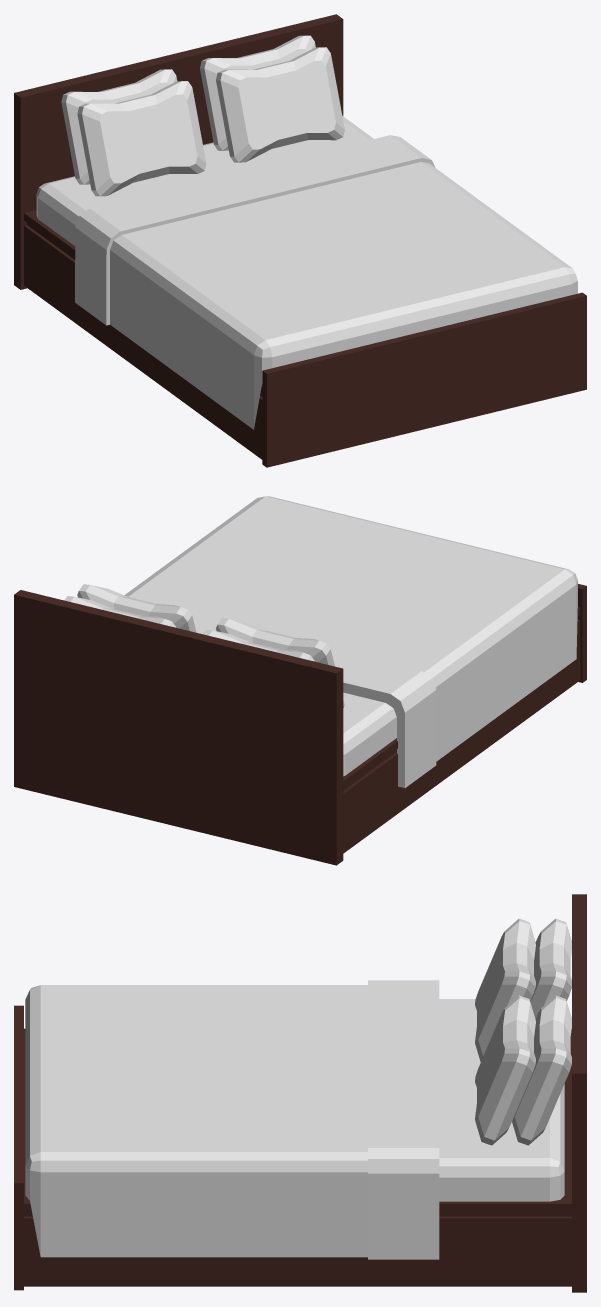
The model's file is Bed.glb.
3 views of the same model, one above another, from view 1: azimuth 30°, elevation 25°; view 2: azimuth 150°, elevation 25°; view 3: azimuth 270°, elevation 25° (orthographic). The views are drawn at different scales.
Visible parts, largest first — view 1: Bed; view 2: Bed; view 3: Bed.
Boxes of the visible parts, x1,y1,x2,y2 form: Bed: (14,14,586,467); Bed: (14,496,586,865); Bed: (14,894,586,1292).
Bounding box in the file's own units: 2.36 × 1.32 × 3.12.
Materials: 1 (1 with a texture image).
